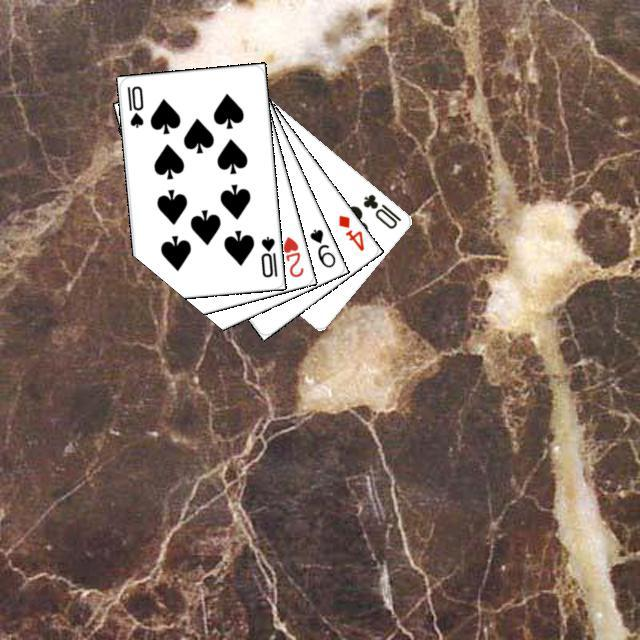10c: (358, 189, 403, 231)
10s: (256, 232, 279, 279), (123, 81, 145, 129)
2h: (278, 232, 305, 279)
4d: (333, 210, 366, 253)
9s: (305, 224, 337, 269)
